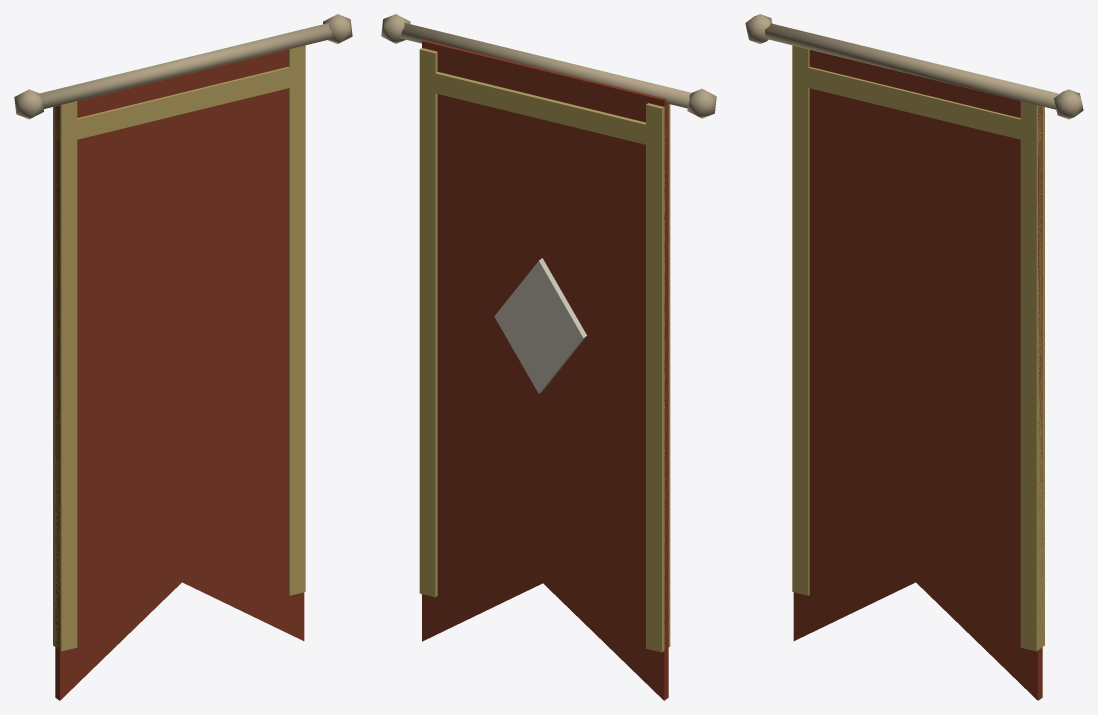
Rendered from crawdad_banner_v0.glb.
3 views of the same model, side by side, from view 1: azimuth 30°, elevation 25°; view 2: azimuth 150°, elevation 25°; view 3: azimuth 330°, elevation 25° (orthographic).
Visible parts, largest first — view 1: crawdad_banner_v0; view 2: crawdad_banner_v0; view 3: crawdad_banner_v0.
Part boxes in pixels (bbox=[...]): crawdad_banner_v0: bbox=[14, 14, 352, 700]; crawdad_banner_v0: bbox=[381, 14, 716, 700]; crawdad_banner_v0: bbox=[745, 14, 1083, 700].
Size of the model in its own units: 1.04 by 1.84 by 0.0933.
